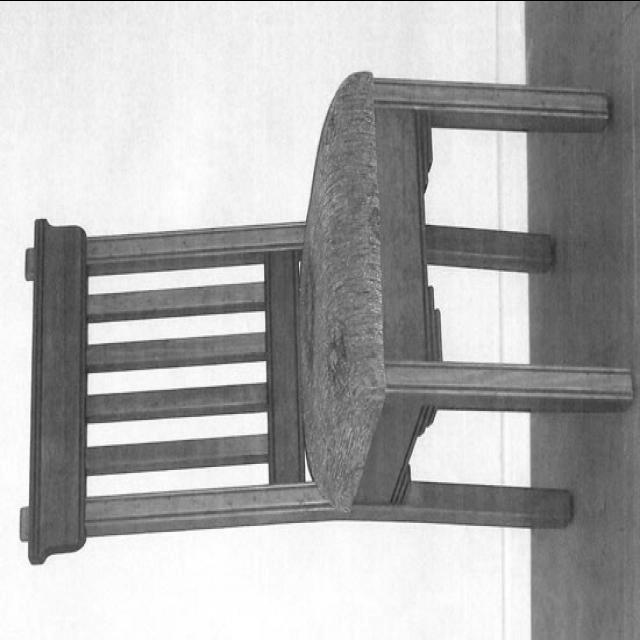chair: (21, 80, 635, 566)
